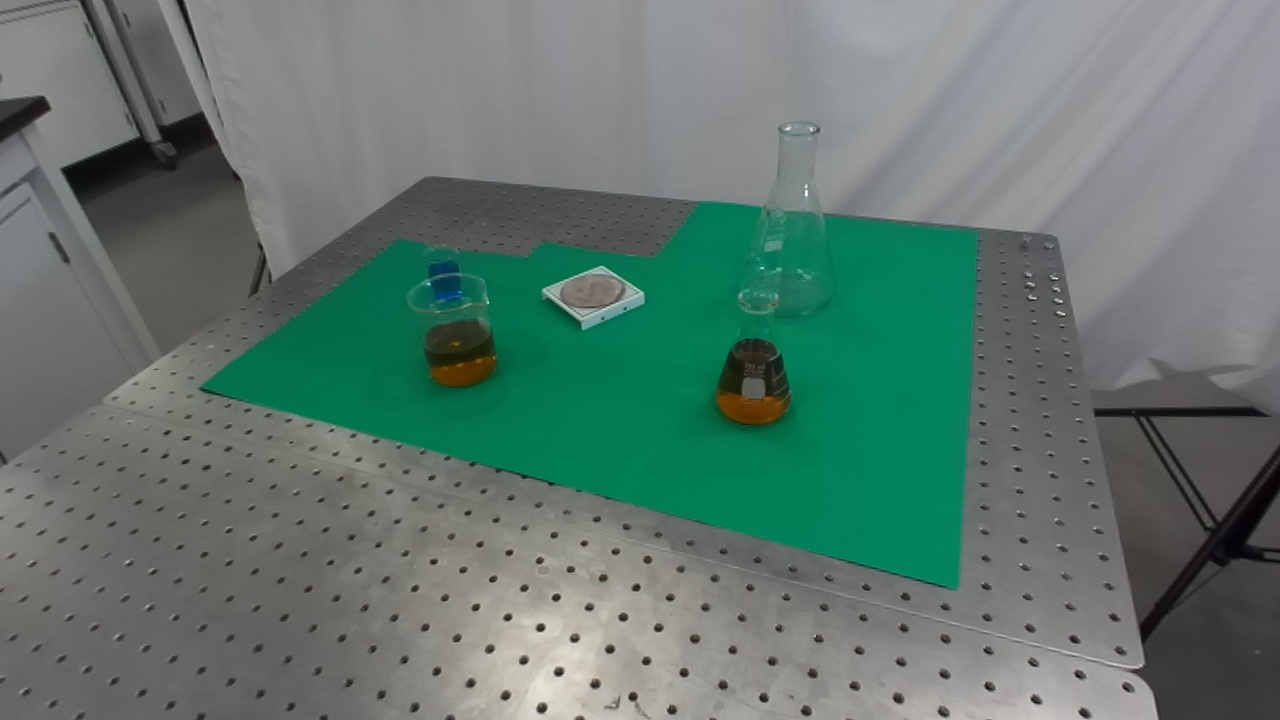glass: (731, 115, 842, 324), (710, 285, 796, 431), (406, 271, 502, 391), (424, 243, 463, 308)
plate: (536, 260, 648, 335)
